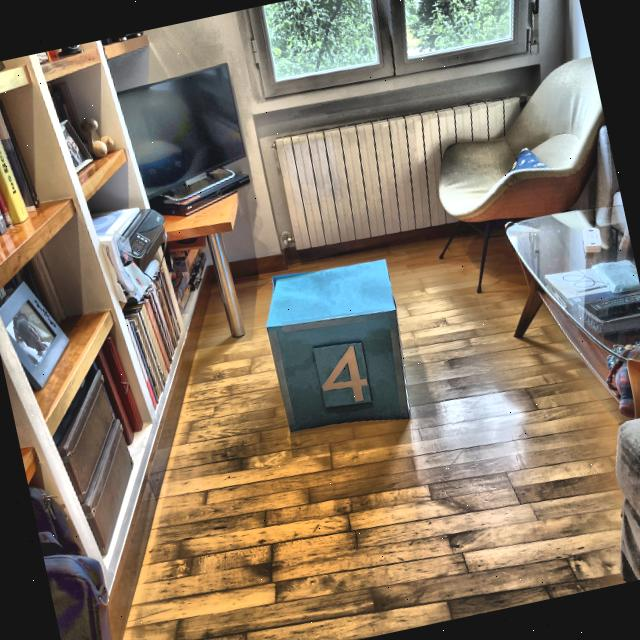blue box: (253, 251, 422, 446)
four: (312, 340, 374, 410)
